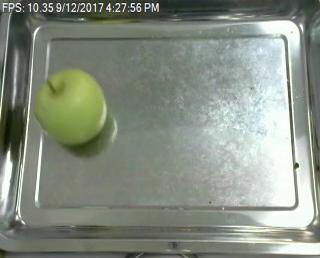fruit: (30, 68, 115, 151)
